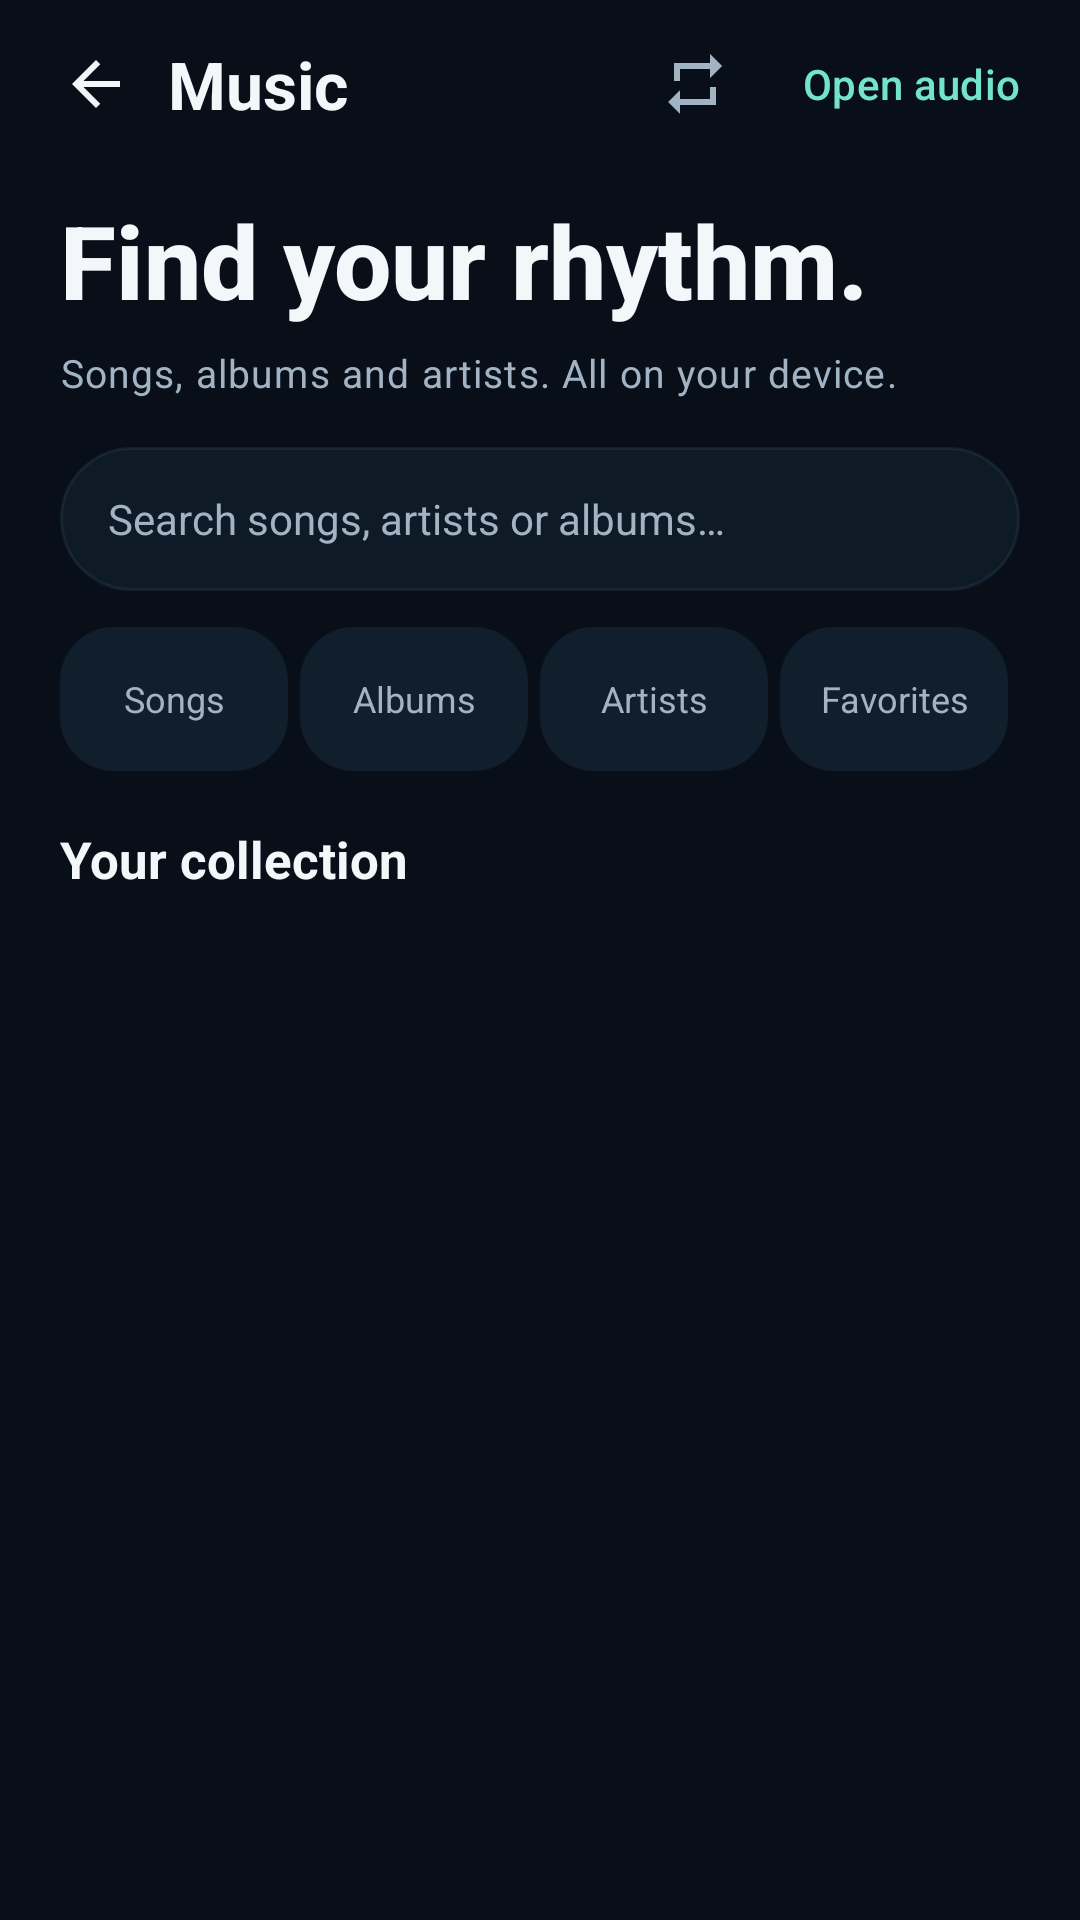

Point at icon controls on the screen. Image size 1080px×1920px, points as point (x, y).
Back: point (96, 84)
Refresh library: point (695, 84)
